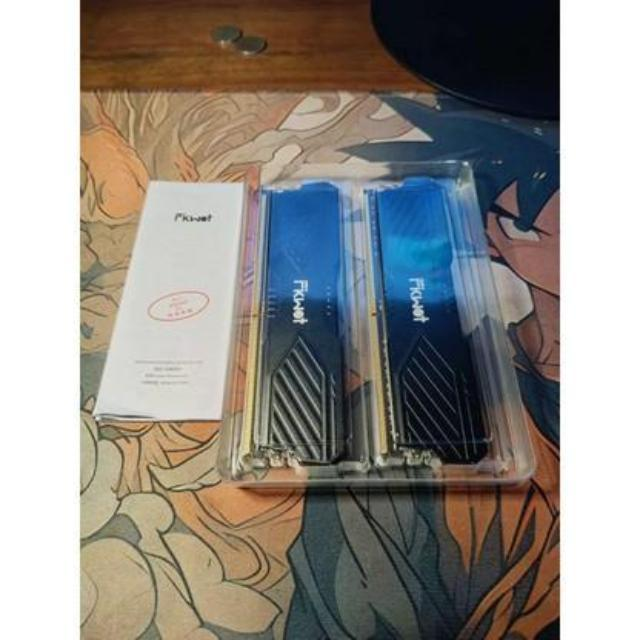RAM: (357, 182, 491, 469), (238, 172, 350, 470)
